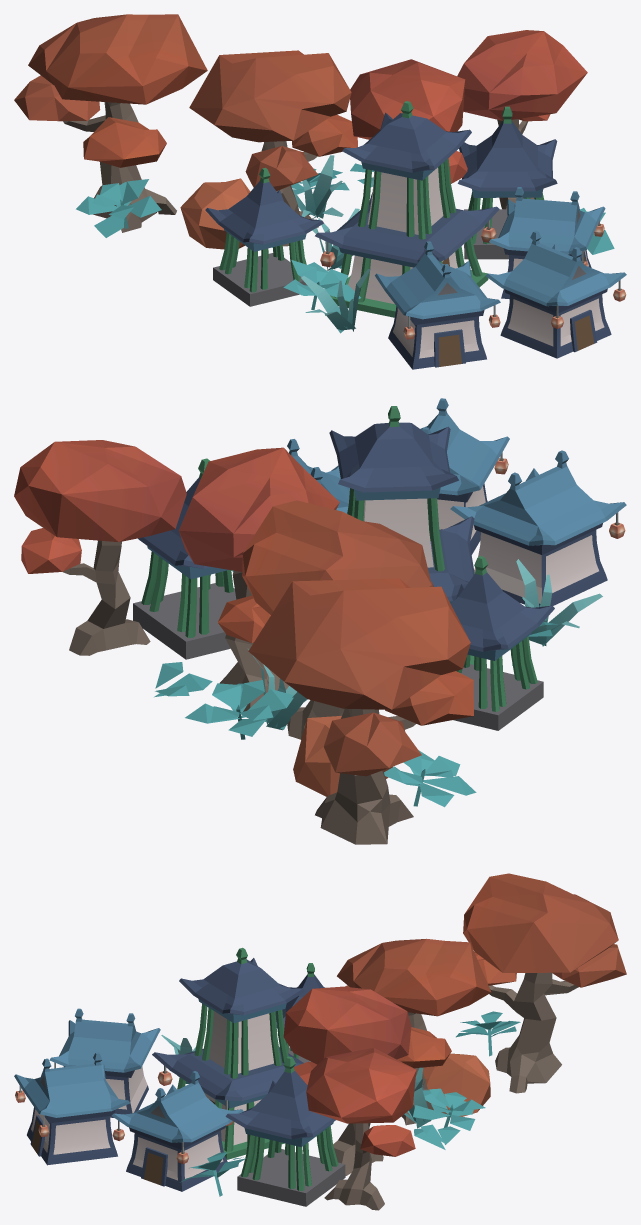
File: townBurning2.fbx
The picture shows the model from 3 angles, top to bottom: view 1: azimuth 30°, elevation 25°; view 2: azimuth 150°, elevation 25°; view 3: azimuth 270°, elevation 25°; orthographic projection. The views are drawn at different scales.
Visible parts, largest first — view 1: townBurning2; view 2: townBurning2; view 3: townBurning2.
Part boxes in pixels (left/top/right/bottom): townBurning2: left=14, top=14, right=626, bottom=369; townBurning2: left=14, top=398, right=626, bottom=844; townBurning2: left=14, top=873, right=626, bottom=1210.
Size of the model in its own units: 6.69 by 2.97 by 8.69.
